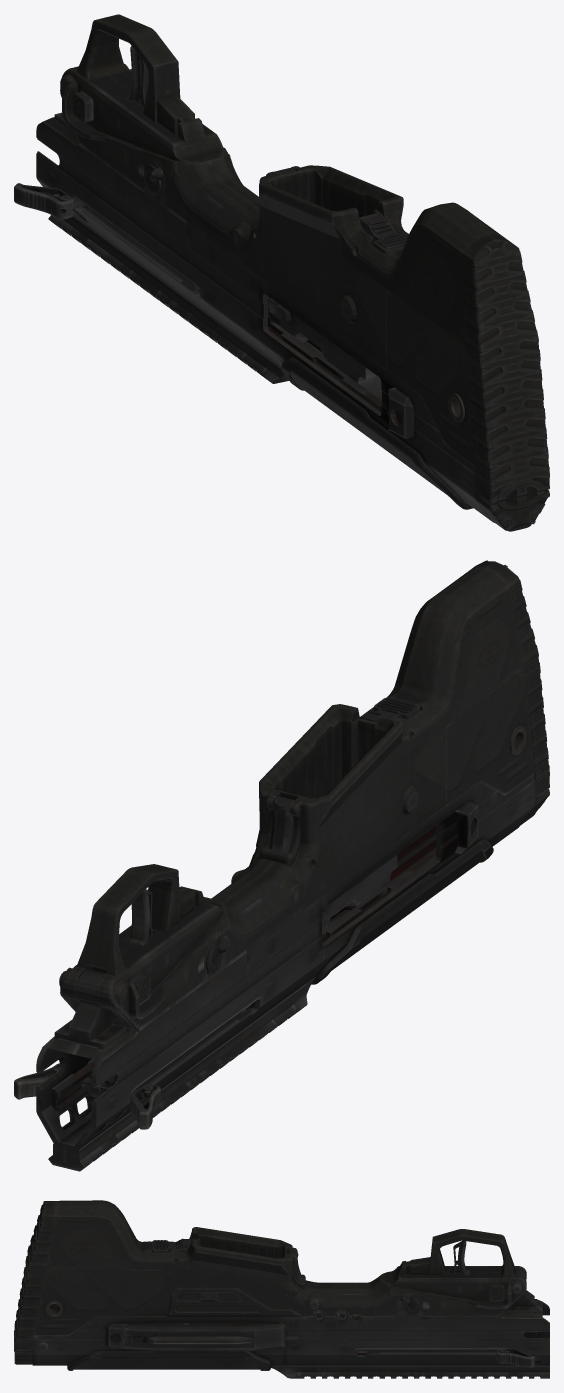
3 views of the same model, one above another, from view 1: azimuth 30°, elevation 25°; view 2: azimuth 150°, elevation 25°; view 3: azimuth 270°, elevation 25° (orthographic). The views are drawn at different scales.
Parts seen in each view (by area): view 1: TW_5dcbd56fdbd3d91b3e5468d5_PZ_Import; view 2: TW_5dcbd56fdbd3d91b3e5468d5_PZ_Import; view 3: TW_5dcbd56fdbd3d91b3e5468d5_PZ_Import.
Part boxes in pixels (x1,y1,x2,y2): TW_5dcbd56fdbd3d91b3e5468d5_PZ_Import: [14, 14, 549, 531]; TW_5dcbd56fdbd3d91b3e5468d5_PZ_Import: [14, 560, 549, 1171]; TW_5dcbd56fdbd3d91b3e5468d5_PZ_Import: [14, 1200, 549, 1378].
Bounding box in the file's own units: 0.0462 × 0.27 × 0.0959.
1 material, 1 textured.
